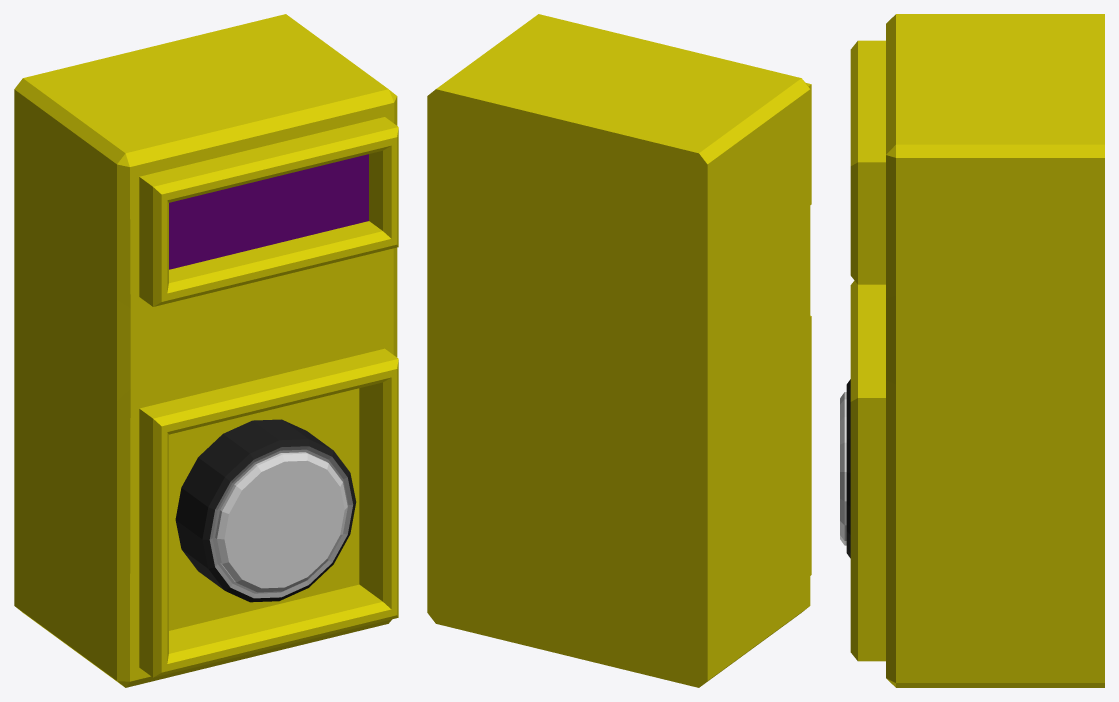
File: tlacitko.fbx
3 views of the same model, side by side, from view 1: azimuth 30°, elevation 25°; view 2: azimuth 150°, elevation 25°; view 3: azimuth 270°, elevation 25° (orthographic).
Visible parts, largest first — view 1: Cube, Cylinder.001; view 2: Cube; view 3: Cube, Cylinder.001.
Boxes of the visible parts, <box> form: Cube: <box>14,14,398,687</box>; Cylinder.001: <box>215,452,347,592</box>; Cube: <box>427,14,811,687</box>; Cube: <box>846,14,1104,687</box>; Cylinder.001: <box>840,392,846,545</box>.
Bounding box in the file's own units: 5.01 × 9.13 × 4.03.
